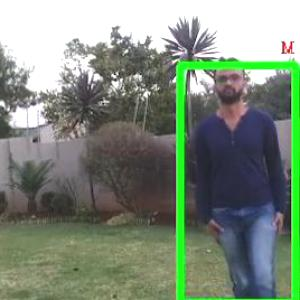follow: (202, 52, 288, 299)
